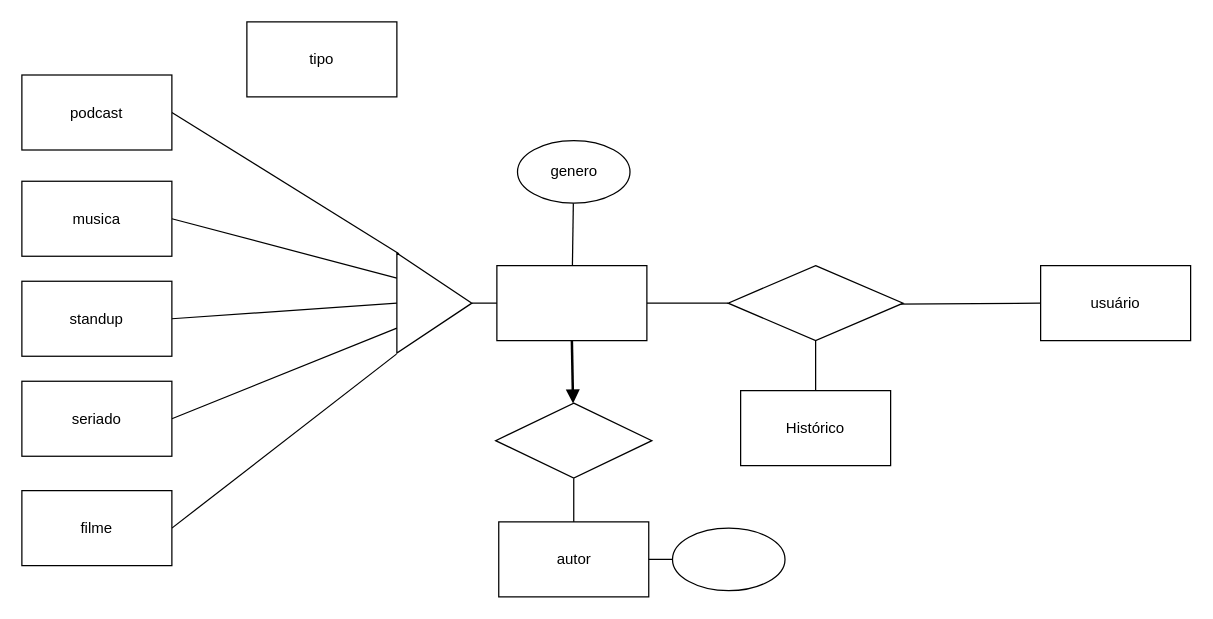
The diagram is 1213 pixels wide and 619 high, and some of its shapes have lost their labels. Here are the shapes that lost their labels. From the top down, the centre of each, then its label:
At point 434,302: "é um".
At point 571,302: "conteúdo".
At point 815,302: "acesso".
At point 573,440: "meus conteudos".
At point 728,559: "nome".
